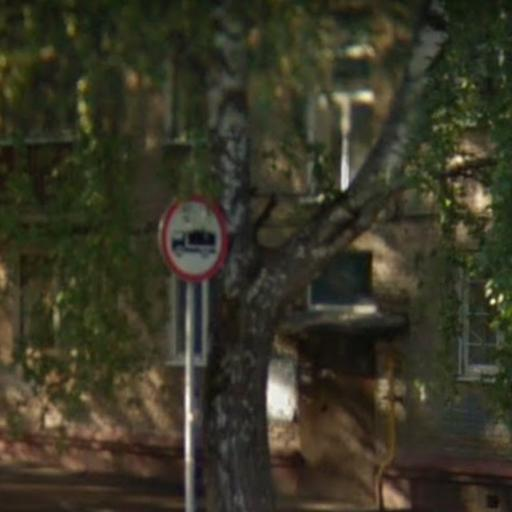traffic_sign: (151, 185, 238, 289)
